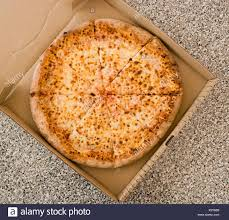pizza: (27, 27, 183, 164)
